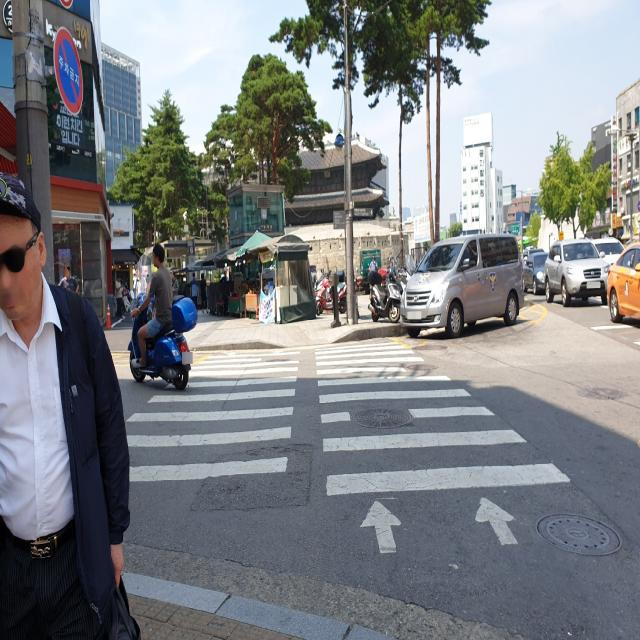횡단보도: (123, 338, 574, 559)
